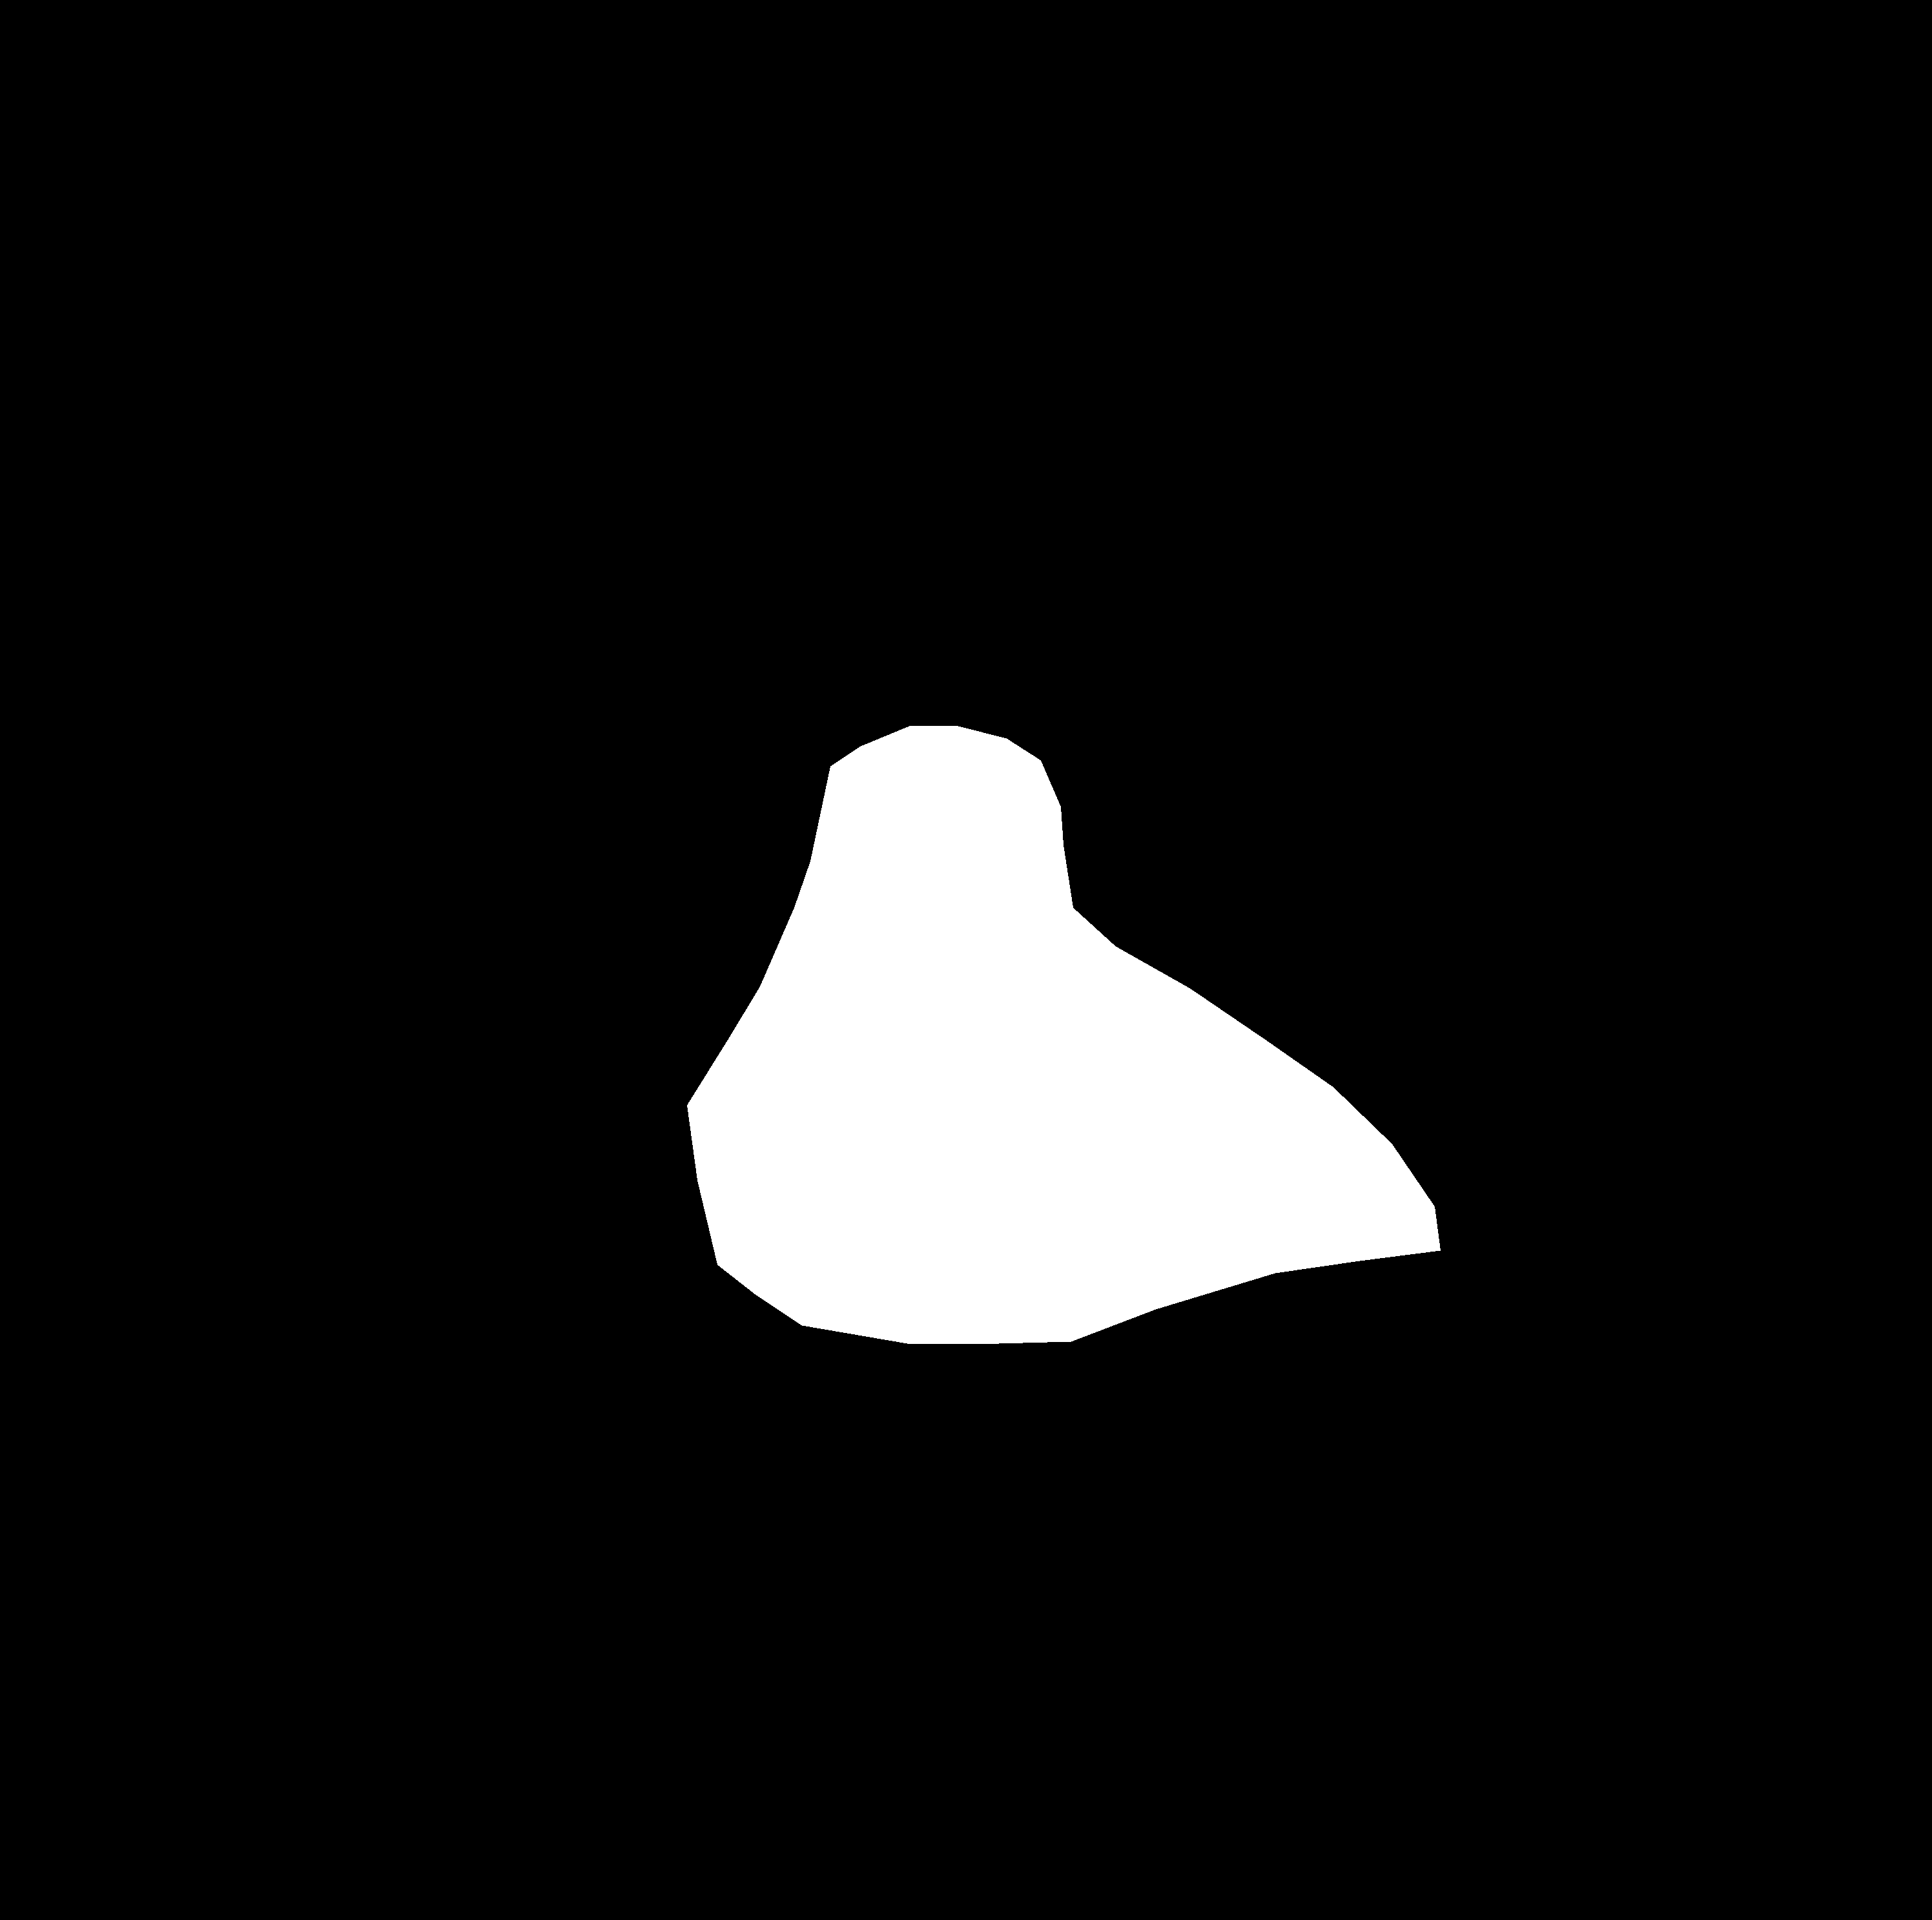heart: (687, 726, 1440, 1343)
left_lung: (153, 209, 832, 1340)
right_lung: (988, 216, 1668, 1382)
